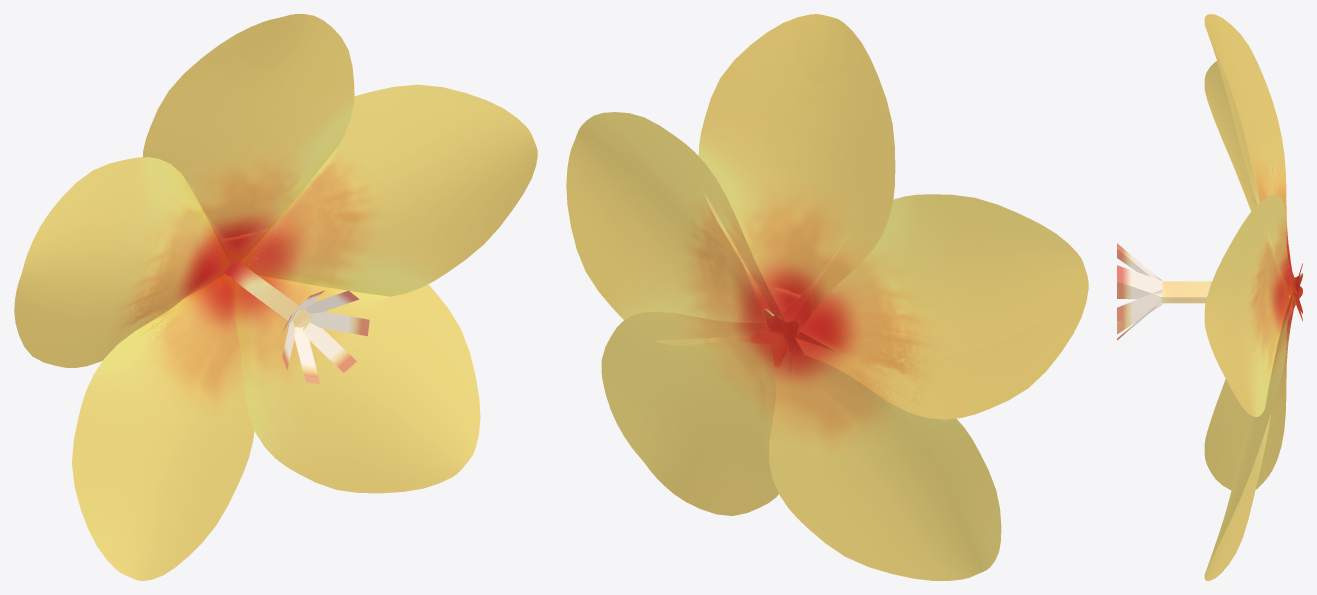
The model's file is flower2.glb.
3 views of the same model, side by side, from view 1: azimuth 30°, elevation 25°; view 2: azimuth 150°, elevation 25°; view 3: azimuth 270°, elevation 25° (orthographic). The views are drawn at different scales.
Parts seen in each view (by area): view 1: __Plane.002; view 2: __Plane.002; view 3: __Plane.002.
Part boxes in pixels (x1=…): __Plane.002: x1=14, y1=14, x2=537, y2=580; __Plane.002: x1=566, y1=14, x2=1088, y2=580; __Plane.002: x1=1117, y1=14, x2=1302, y2=580.
Bounding box in the file's own units: 1.56 × 1.53 × 0.5064.
1 material, 1 textured.
